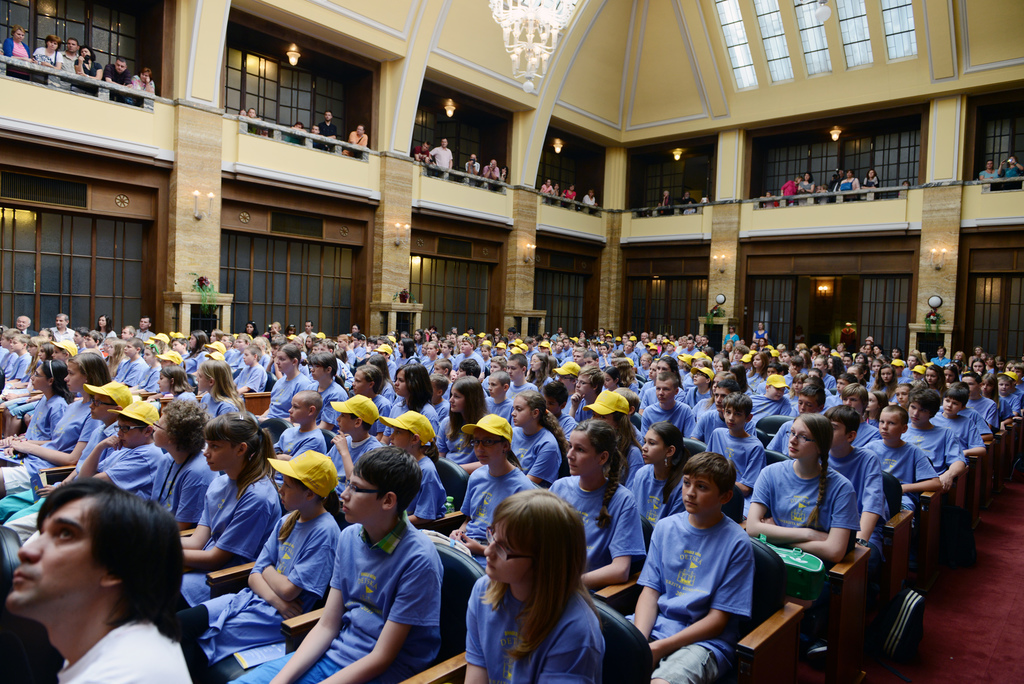Human-face: (0, 320, 1023, 630), (9, 494, 106, 608), (483, 533, 527, 580), (335, 474, 380, 519), (565, 431, 600, 473), (681, 476, 719, 511), (785, 421, 817, 456), (207, 443, 245, 469), (474, 432, 504, 462), (278, 480, 304, 510), (119, 420, 149, 444), (876, 412, 901, 440), (89, 396, 113, 418), (152, 419, 172, 445), (511, 400, 529, 425), (67, 366, 86, 389), (831, 423, 847, 450), (724, 410, 744, 430), (391, 431, 414, 448), (796, 396, 817, 414), (31, 362, 45, 387), (289, 396, 301, 421), (656, 384, 671, 403), (841, 395, 860, 410), (910, 407, 930, 421), (275, 354, 292, 370), (351, 373, 367, 390), (394, 373, 406, 395), (580, 375, 593, 394), (450, 389, 460, 411), (945, 398, 957, 415), (488, 380, 501, 395), (509, 364, 521, 380), (309, 366, 323, 379), (881, 368, 892, 384), (899, 389, 909, 405), (927, 373, 937, 385), (56, 319, 67, 329), (68, 41, 76, 53), (246, 352, 254, 364)
